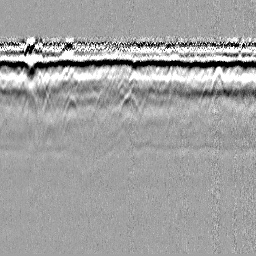cavity: (117, 89, 141, 118)
